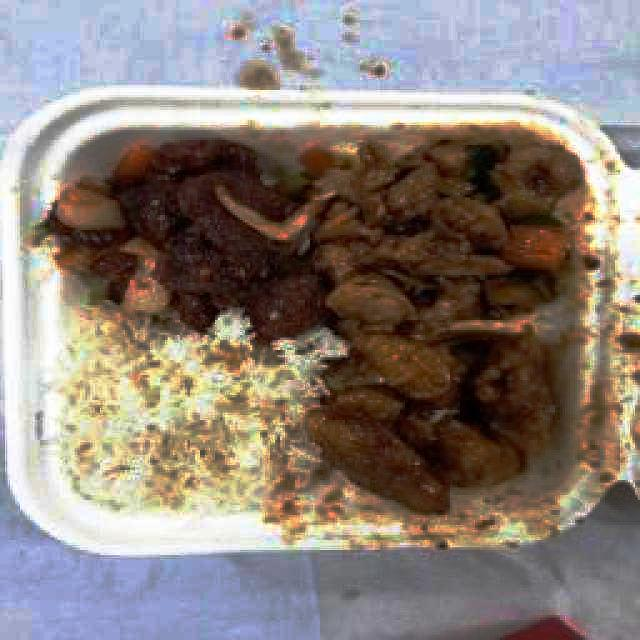Beijing Beef: (45, 135, 328, 338)
Kung Pao Chicken: (323, 146, 572, 326)
rice: (63, 349, 303, 506)
